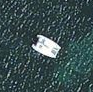ship: (30, 33, 62, 61)
